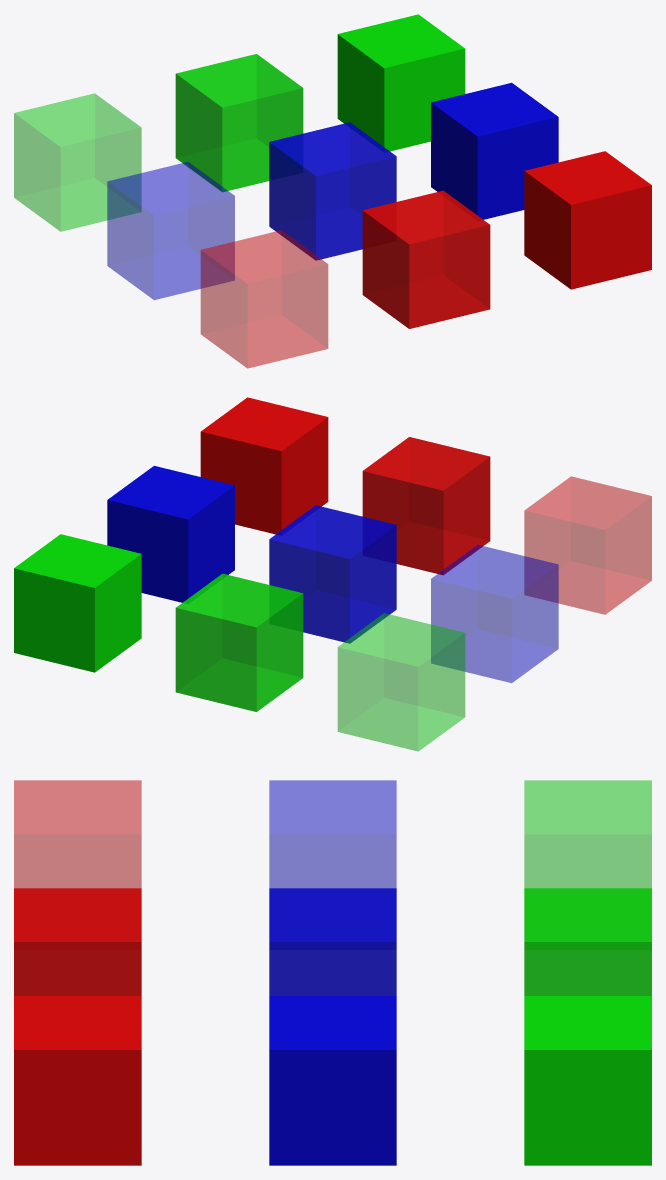
File: cubes-depth.gltf
3 views of the same model, one above another, from view 1: azimuth 30°, elevation 25°; view 2: azimuth 150°, elevation 25°; view 3: azimuth 270°, elevation 25° (orthographic). The views are drawn at different scales.
Parts seen in each view (by area): view 1: Cube.007, Cube.004, Cube.006, Cube.005, Cube.003, Cube.008, Cube.001, Cube.002, Cube; view 2: Cube.008, Cube.005, Cube.002, Cube.004, Cube.003, Cube.007, Cube.001, Cube.006, Cube; view 3: Cube, Cube.002, Cube.006, Cube.004, Cube.005, Cube.003, Cube.001, Cube.008, Cube.007.
Part boxes in pixels (left/top/right/bottom): Cube.007: left=362, top=190, right=490, bottom=328; Cube.004: left=200, top=230, right=328, bottom=368; Cube.006: left=524, top=151, right=651, bottom=289; Cube.005: left=14, top=93, right=141, bottom=231; Cube.003: left=107, top=162, right=234, bottom=299; Cube.008: left=175, top=54, right=303, bottom=191; Cube.001: left=269, top=122, right=396, bottom=260; Cube.002: left=337, top=14, right=465, bottom=151; Cube: left=431, top=82, right=558, bottom=219; Cube.008: left=175, top=573, right=303, bottom=711; Cube.005: left=337, top=613, right=465, bottom=751; Cube.002: left=14, top=534, right=141, bottom=672; Cube.004: left=524, top=476, right=651, bottom=614; Cube.003: left=431, top=545, right=558, bottom=682; Cube.007: left=362, top=437, right=490, bottom=575; Cube.001: left=269, top=505, right=396, bottom=643; Cube.006: left=200, top=397, right=328, bottom=534; Cube: left=107, top=465, right=234, bottom=602; Cube: left=269, top=996, right=396, bottom=1165; Cube.002: left=524, top=996, right=651, bottom=1165; Cube.006: left=14, top=996, right=141, bottom=1165; Cube.004: left=14, top=780, right=141, bottom=888; Cube.005: left=524, top=780, right=651, bottom=888; Cube.003: left=269, top=780, right=396, bottom=888; Cube.001: left=269, top=888, right=396, bottom=995; Cube.008: left=524, top=888, right=651, bottom=995; Cube.007: left=14, top=888, right=141, bottom=995.
Size of the model in its own units: 10 by 2 by 10.
